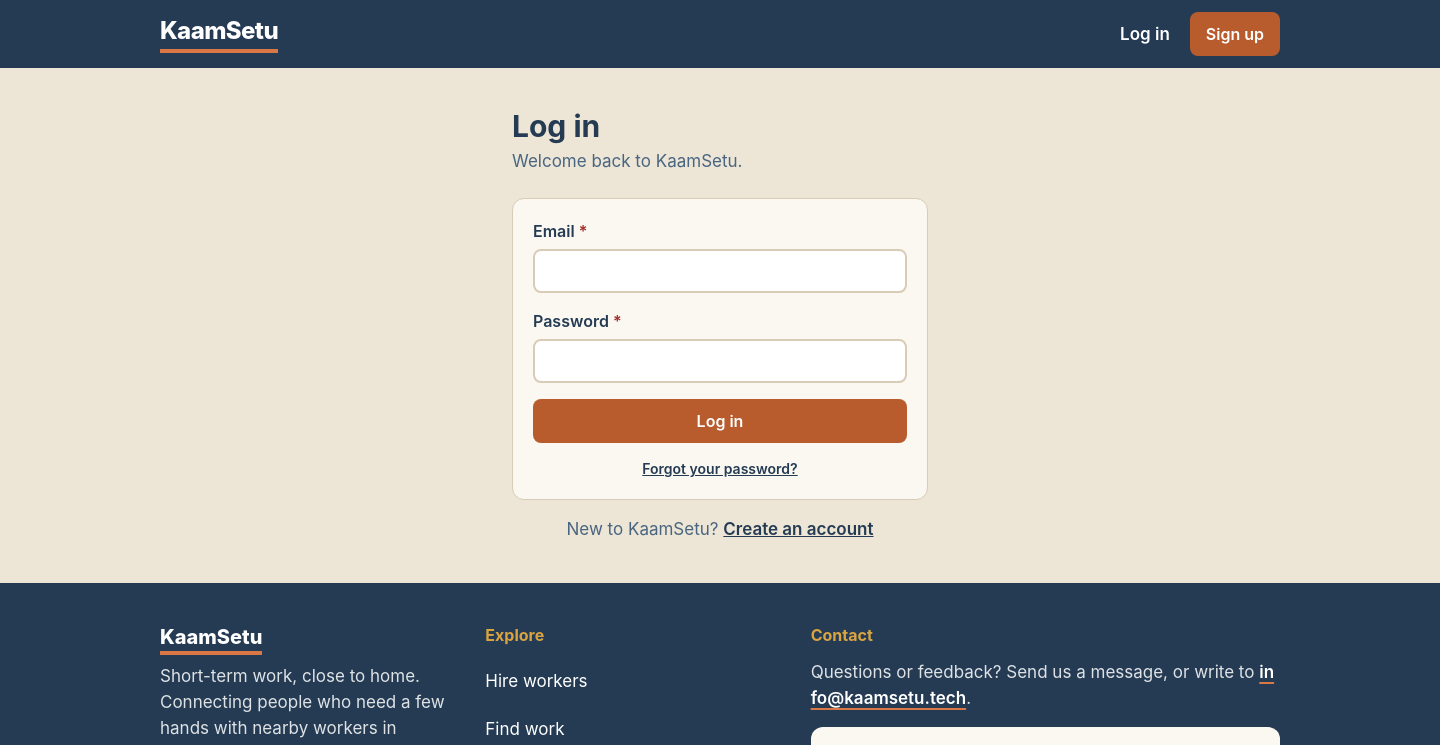
login › shows a friendly message for wrong credentials
Type "ravi@example.com" into the field labelled "Email *" at (720, 271), box [533,249,907,293]
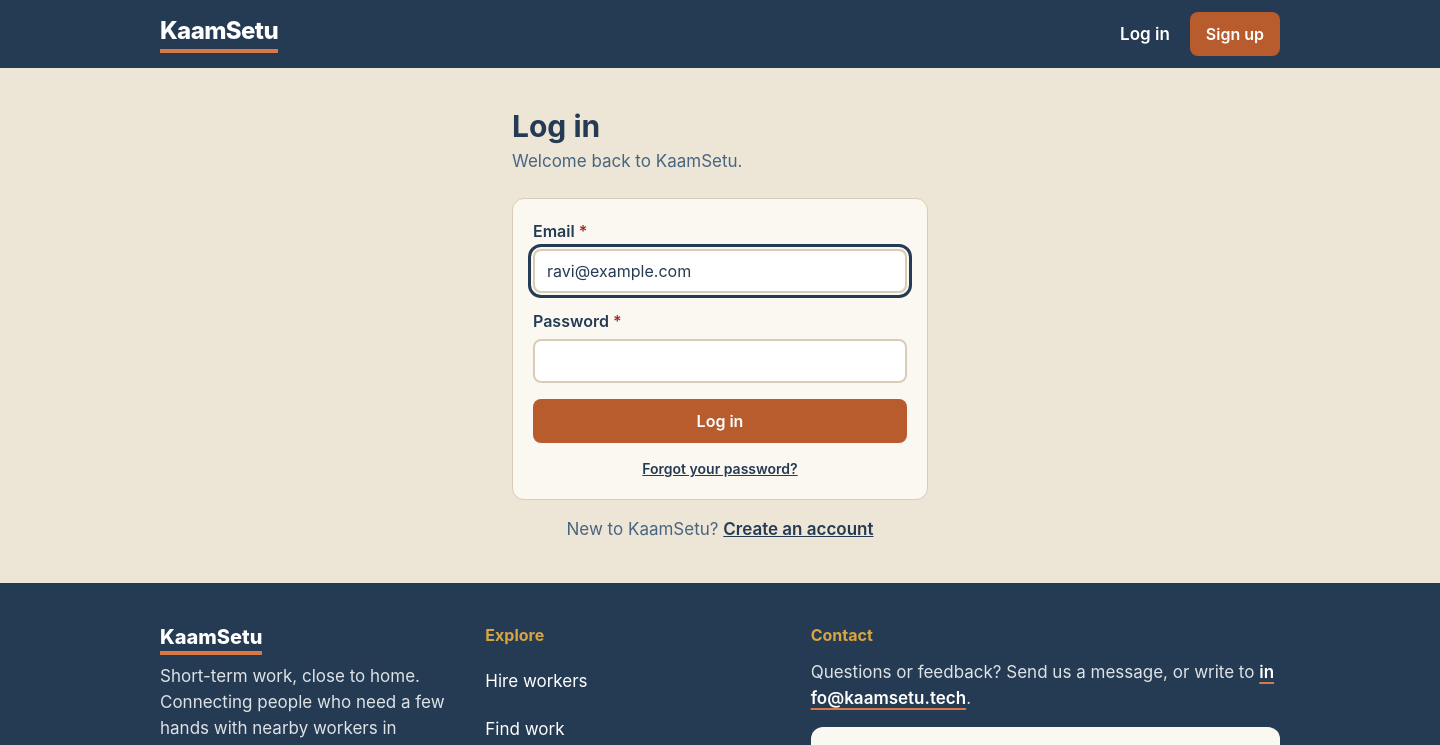
Type "wrong-password" into the password field labelled "Password *" at (720, 361), box [533,339,907,383]
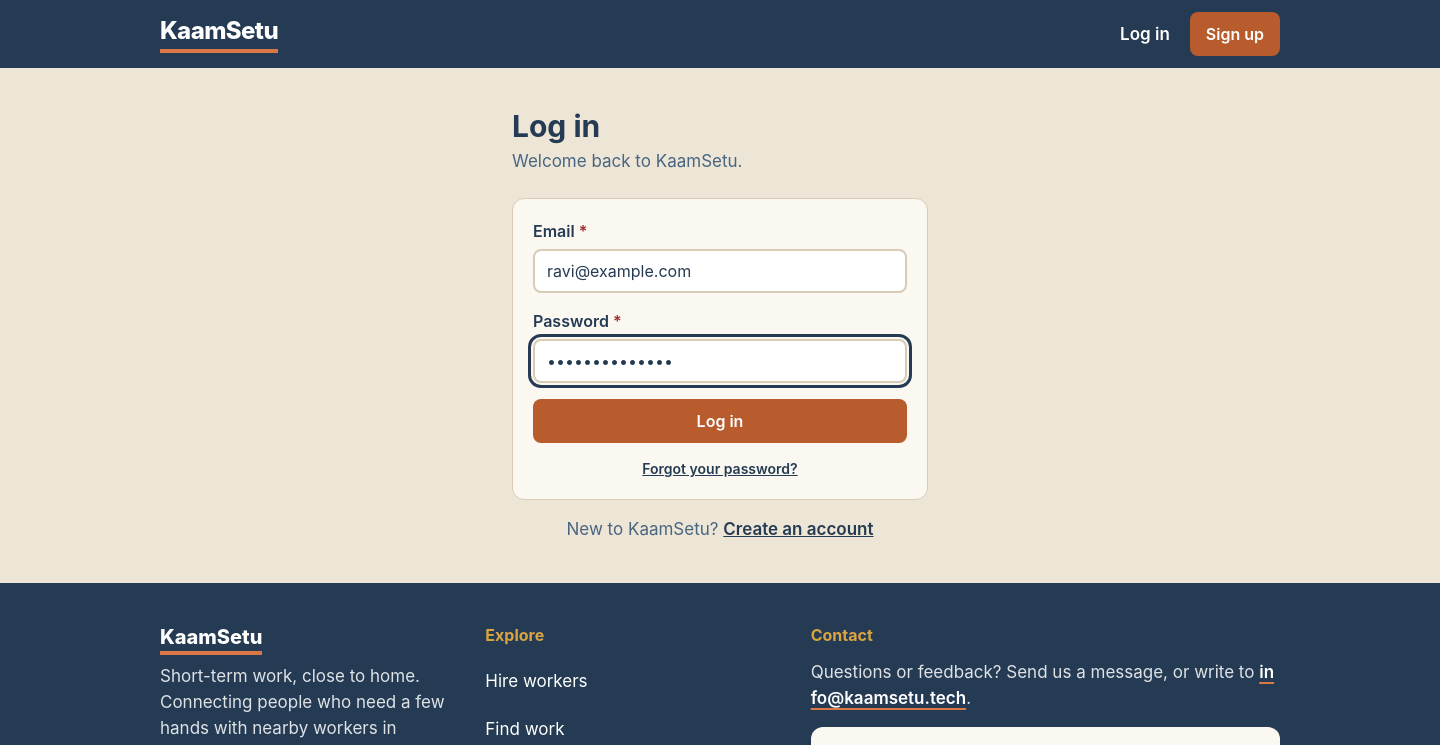
Click the button "Log in" at (720, 421), box [533,399,907,443]
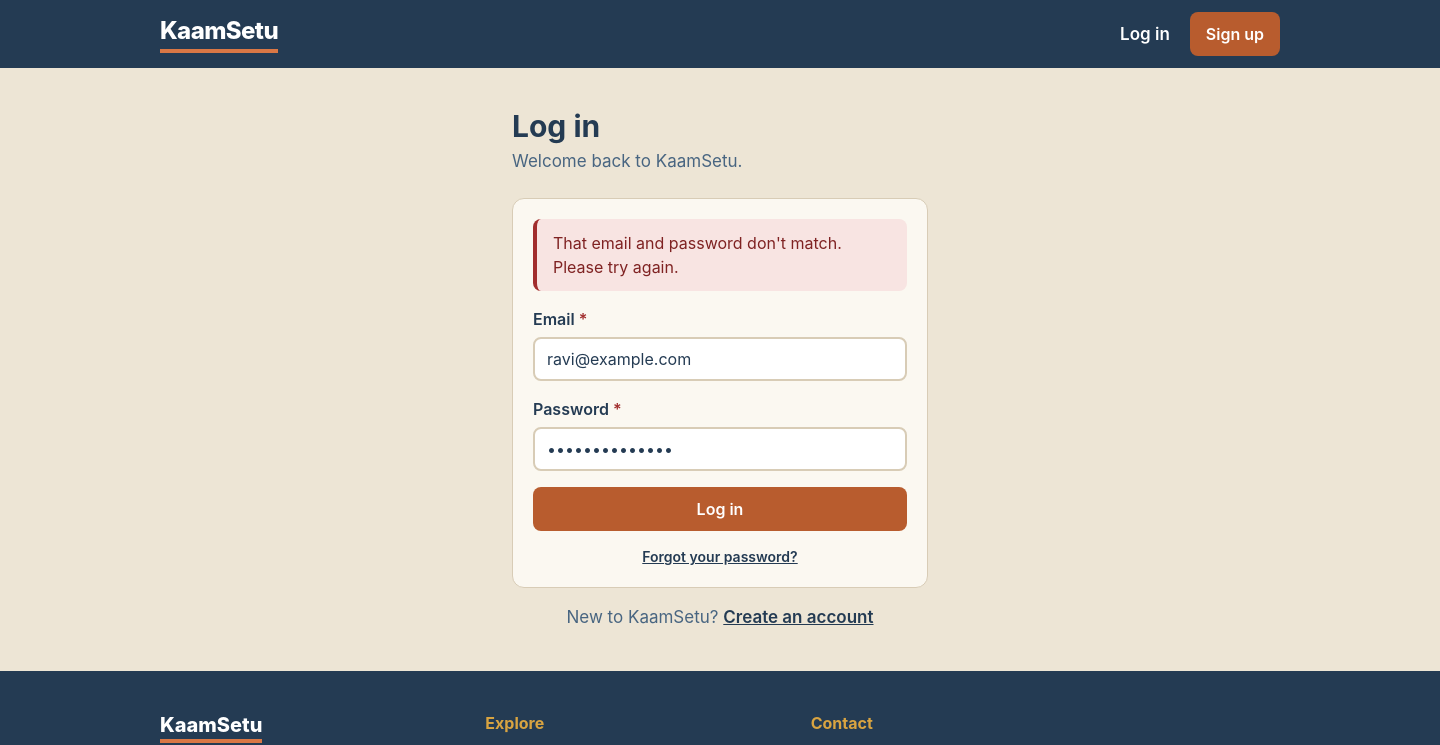
Now the message shows "That email and password don't match", box [553,233,842,277]
